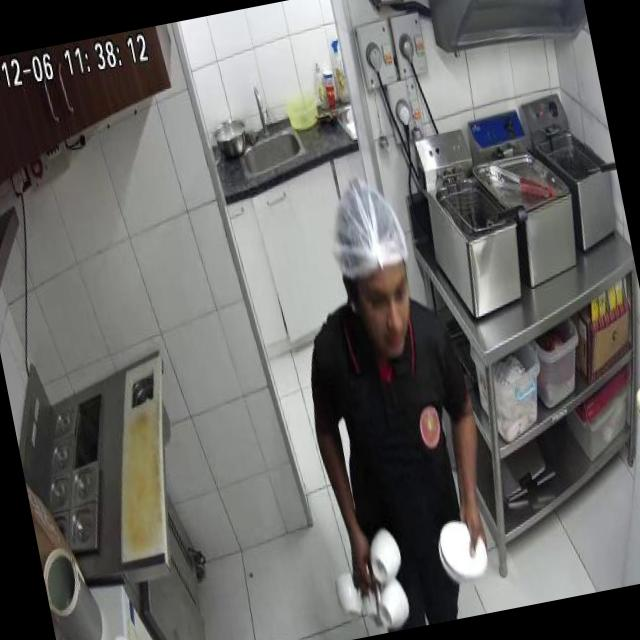hairnet: (324, 173, 411, 278)
